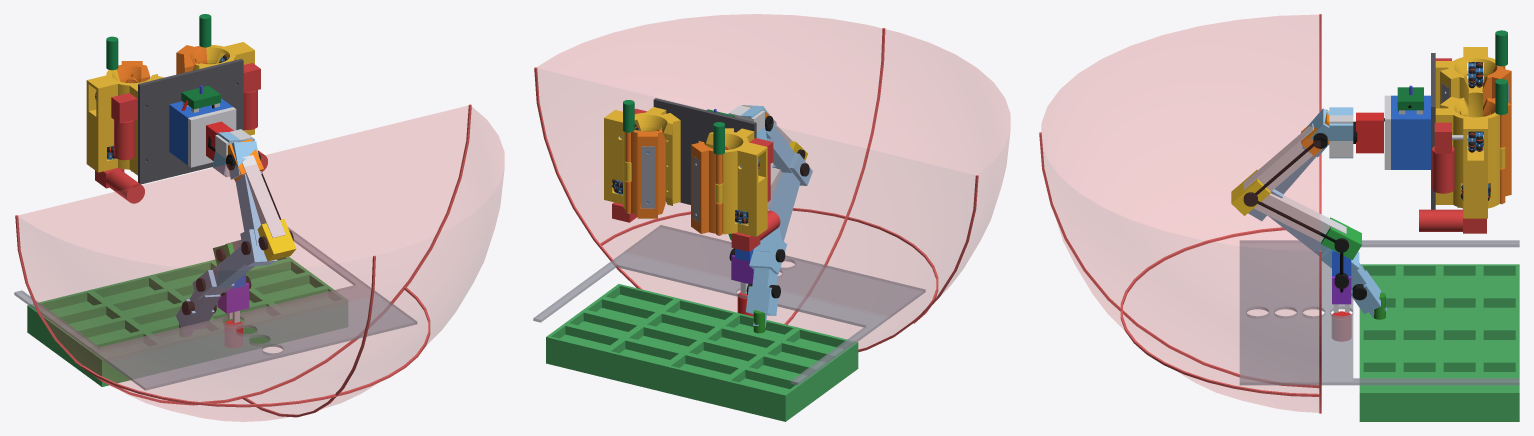
Rendered from cart-arm-working.glb.
The picture shows the model from 3 angles, left to right: view 1: azimuth 30°, elevation 25°; view 2: azimuth 150°, elevation 25°; view 3: azimuth 270°, elevation 25°; orthographic projection. The views are drawn at different scales.
Visible parts, largest first — view 1: reach_envelope, seedling_tray, store_lid_patch, base_plate, hand_on_pipe_B_sleeve, reach_ring_across, reach_ring_on_lid, arm_pick_D1_base_plate, arm_pick_D1_upper_arm, battery, ghost_arm_cell_A2_forearm, hand_on_pipe_C_sleeve (+17 smaller); view 2: reach_envelope, seedling_tray, store_lid_patch, hand_on_pipe_B_sleeve, hand_on_pipe_C_sleeve, base_plate, hand_on_pipe_C_jaw, hand_on_pipe_B_jaw, reach_ring_across, ghost_arm_cell_A2_forearm, reach_ring_towards_store, reach_ring_on_lid (+8 smaller); view 3: reach_envelope, seedling_tray, store_lid_patch, hand_on_pipe_C_sleeve, battery, hand_on_pipe_B_sleeve, arm_pick_D1_forearm, reach_ring_on_lid, arm_pick_D1_upper_arm, reach_ring_towards_store, hand_on_pipe_C_jaw, arm_pick_D1_servo_A_base (+16 smaller).
Boxes of the visible parts, left/top/right/bottom form: reach_envelope: left=18, top=106, right=504, bottom=421; seedling_tray: left=27, top=256, right=347, bottom=386; store_lid_patch: left=14, top=227, right=417, bottom=390; base_plate: left=138, top=59, right=243, bottom=184; hand_on_pipe_B_sleeve: left=86, top=69, right=163, bottom=175; reach_ring_across: left=15, top=104, right=471, bottom=405; reach_ring_on_lid: left=81, top=287, right=430, bottom=407; arm_pick_D1_base_plate: left=188, top=107, right=236, bottom=167; arm_pick_D1_upper_arm: left=241, top=155, right=285, bottom=237; battery: left=169, top=98, right=232, bottom=165; ghost_arm_cell_A2_forearm: left=209, top=246, right=254, bottom=293; hand_on_pipe_C_sleeve: left=192, top=42, right=254, bottom=135; reach_envelope: left=537, top=14, right=1010, bottom=348; seedling_tray: left=546, top=284, right=858, bottom=421; store_lid_patch: left=533, top=225, right=925, bottom=385; hand_on_pipe_B_sleeve: left=706, top=128, right=767, bottom=236; hand_on_pipe_C_sleeve: left=604, top=107, right=680, bottom=209; base_plate: left=653, top=98, right=756, bottom=204; hand_on_pipe_C_jaw: left=625, top=129, right=665, bottom=218; hand_on_pipe_B_jaw: left=691, top=141, right=722, bottom=235; reach_ring_across: left=534, top=67, right=978, bottom=352; ghost_arm_cell_A2_forearm: left=757, top=172, right=800, bottom=251; reach_ring_towards_store: left=784, top=28, right=885, bottom=324; reach_ring_on_lid: left=600, top=207, right=938, bottom=323; reach_envelope: left=1041, top=15, right=1319, bottom=412; seedling_tray: left=1359, top=264, right=1519, bottom=421; store_lid_patch: left=1239, top=240, right=1519, bottom=385; hand_on_pipe_C_sleeve: left=1435, top=96, right=1505, bottom=218; battery: left=1391, top=95, right=1430, bottom=169; hand_on_pipe_B_sleeve: left=1435, top=47, right=1495, bottom=117; arm_pick_D1_forearm: left=1254, top=193, right=1346, bottom=242; reach_ring_on_lid: left=1120, top=227, right=1320, bottom=396; arm_pick_D1_upper_arm: left=1243, top=124, right=1313, bottom=191; reach_ring_towards_store: left=1039, top=132, right=1319, bottom=388; hand_on_pipe_C_jaw: left=1483, top=97, right=1511, bottom=203; arm_pick_D1_servo_A_base: left=1356, top=112, right=1383, bottom=153.
Bounding box in the file's own units: 703 × 456 × 601.
